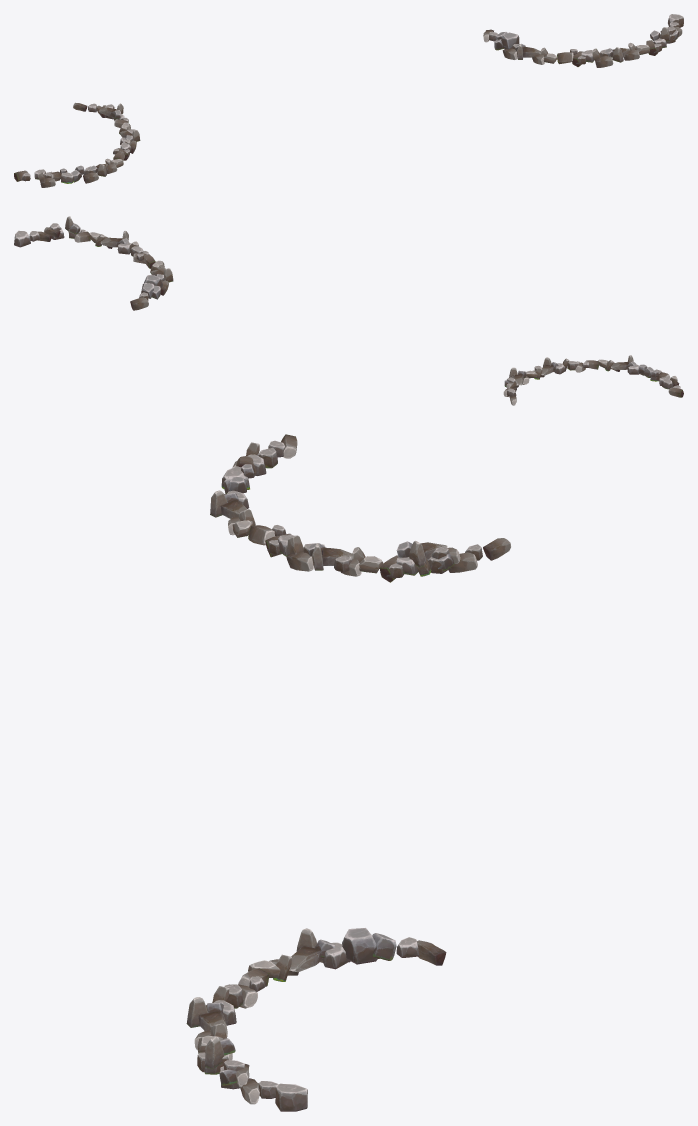
File: Rocks.glb
3 views of the same model, one above another, from view 1: azimuth 30°, elevation 25°; view 2: azimuth 150°, elevation 25°; view 3: azimuth 270°, elevation 25° (orthographic). The views are drawn at different scales.
Visible parts, largest first — view 1: Stone_4_Low.001_stones_no_moss_0.008; view 2: Stone_4_Low.001_stones_no_moss_0.008; view 3: Stone_4_Low.001_stones_no_moss_0.008.
Boxes of the visible parts, x1,y1,x2,y2 form: Stone_4_Low.001_stones_no_moss_0.008: (483,14,683,67); Stone_4_Low.001_stones_no_moss_0.008: (14,216,173,310); Stone_4_Low.001_stones_no_moss_0.008: (186,928,446,1111).
Bounding box in the file's own units: 100 × 4.41 × 21.17.
Materials: 3 (3 with a texture image).
